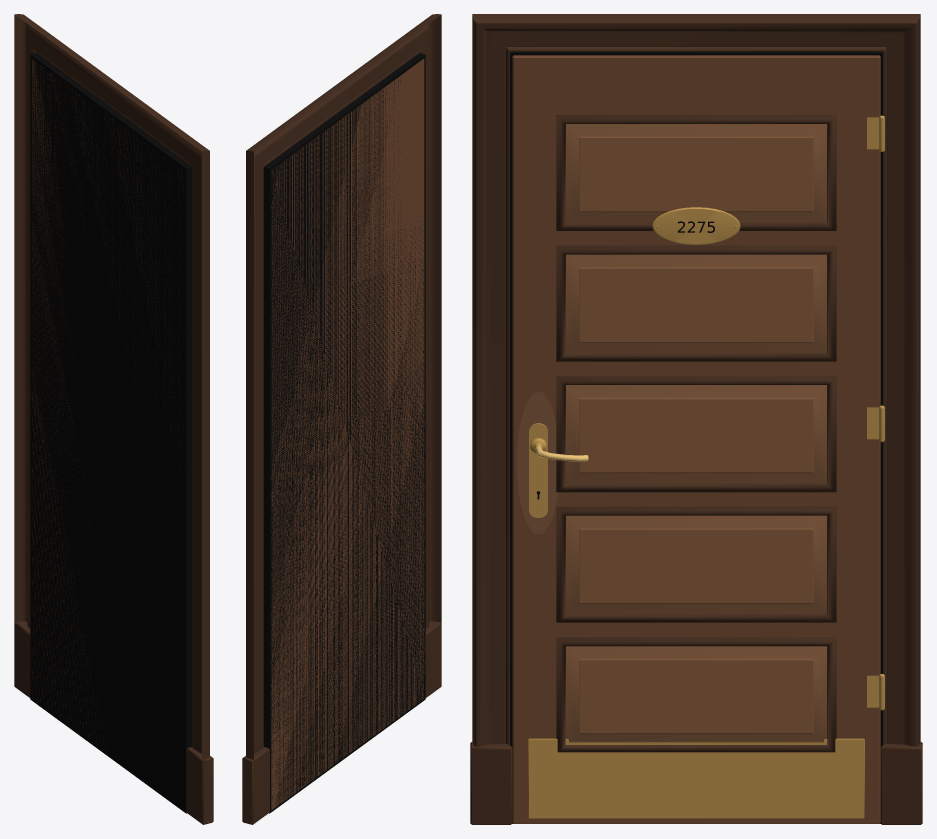
File: hotel_door_d@1.glb
3 renders of one model, left to right at view 1: azimuth 30°, elevation 25°; view 2: azimuth 150°, elevation 25°; view 3: azimuth 270°, elevation 25°, orthographic. The views are drawn at different scales.
Visible parts, largest first — view 1: fuge, bekleidung, blatt; view 2: fuge, blatt, bekleidung; view 3: fuellungen, blatt, bekleidung, kehlleisten, beschlag, fuge, abrieb, nummernschild.
Boxes of the visible parts, x1,y1,x2,y2 form: fuge: (30,53,192,813); bekleidung: (14,14,213,824); blatt: (31,59,184,752); fuge: (263,53,425,813); blatt: (271,58,424,810); bekleidung: (242,14,441,824); fuellungen: (566,124,826,742); blatt: (512,55,880,823); bekleidung: (470,14,922,824); kehlleisten: (556,115,836,752); beschlag: (528,115,884,818); fuge: (510,51,882,823); abrieb: (516,392,558,533); nummernschild: (652,207,740,244).
Bounding box in the file's own units: 0.1118 × 2.22 × 1.13.
